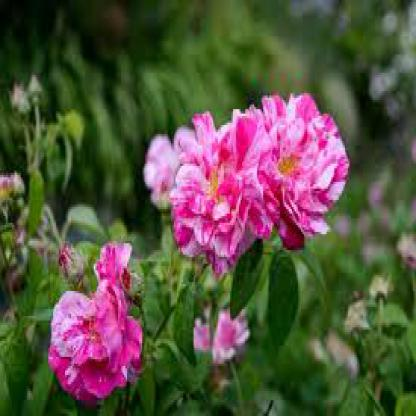Rose-Mawar: (145, 85, 350, 265), (47, 235, 150, 401)
